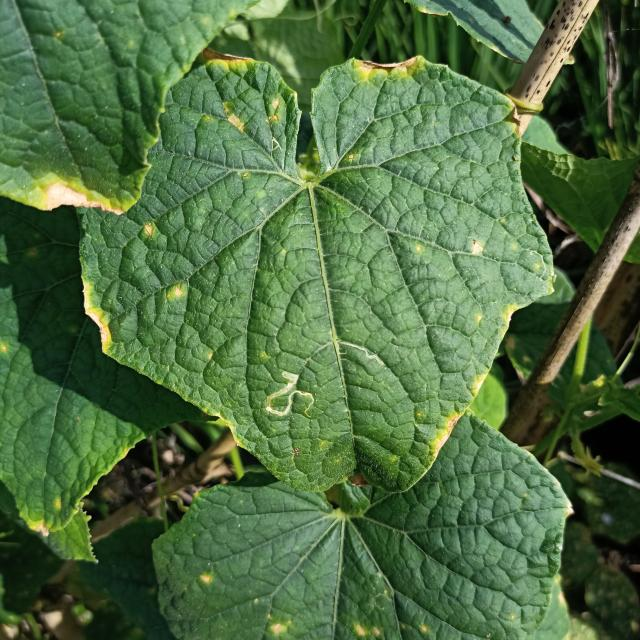disease_cucumber: (200, 45, 287, 136), (471, 298, 522, 334), (167, 283, 186, 303), (467, 238, 486, 258), (143, 222, 157, 242)
